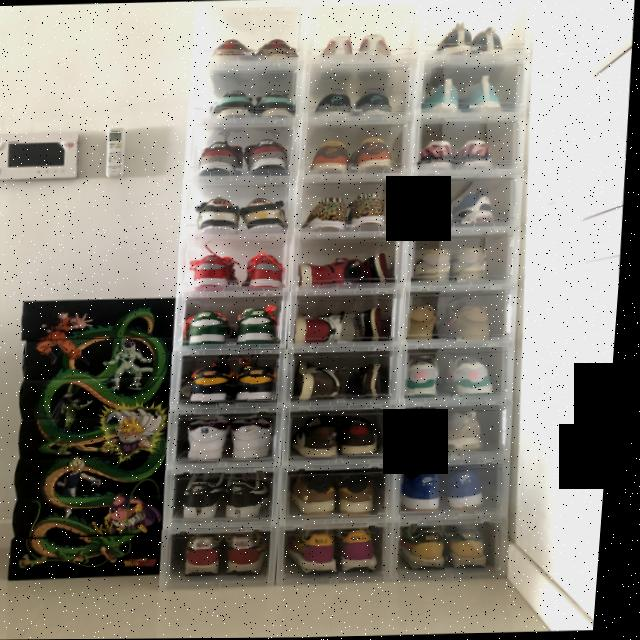shoe: (288, 530, 350, 578), (298, 358, 362, 400), (403, 525, 458, 572), (230, 473, 287, 518), (444, 352, 503, 395), (439, 302, 499, 342), (195, 360, 247, 406), (188, 417, 240, 462), (296, 415, 348, 460), (186, 309, 243, 350), (297, 310, 359, 347), (184, 472, 233, 518), (342, 528, 391, 574), (228, 531, 277, 577), (190, 252, 245, 292), (448, 466, 496, 511), (406, 469, 454, 514), (293, 476, 346, 516), (405, 411, 453, 454), (237, 306, 289, 345), (451, 525, 496, 570), (341, 473, 387, 517), (188, 533, 232, 579), (239, 359, 287, 401), (243, 138, 297, 175), (300, 194, 352, 231), (197, 197, 244, 237), (349, 135, 398, 173), (300, 258, 358, 290), (242, 196, 292, 232), (245, 250, 292, 288), (451, 410, 492, 453), (344, 417, 388, 457), (197, 141, 245, 177), (408, 355, 448, 398), (348, 194, 393, 231), (350, 254, 400, 287), (309, 139, 356, 174), (416, 187, 457, 226), (357, 304, 398, 343), (239, 417, 280, 456), (452, 248, 496, 284), (455, 190, 500, 224), (205, 89, 256, 119), (415, 248, 458, 283), (414, 139, 460, 171), (429, 22, 473, 55), (421, 79, 460, 114), (354, 86, 399, 116), (410, 304, 445, 342), (354, 364, 393, 398), (455, 140, 499, 170), (253, 89, 298, 118), (464, 79, 499, 114), (313, 89, 355, 116), (256, 38, 301, 59), (213, 39, 256, 60), (357, 34, 398, 56), (471, 28, 508, 52), (319, 36, 354, 58)
